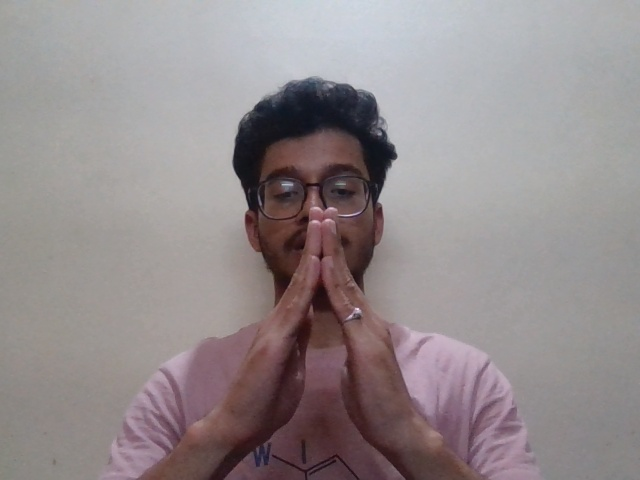home: (211, 205, 456, 463)
